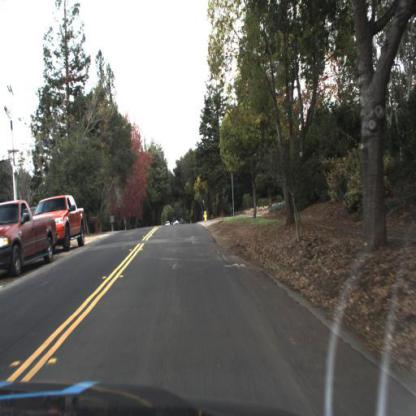car: (1, 200, 55, 279), (51, 193, 86, 259)
